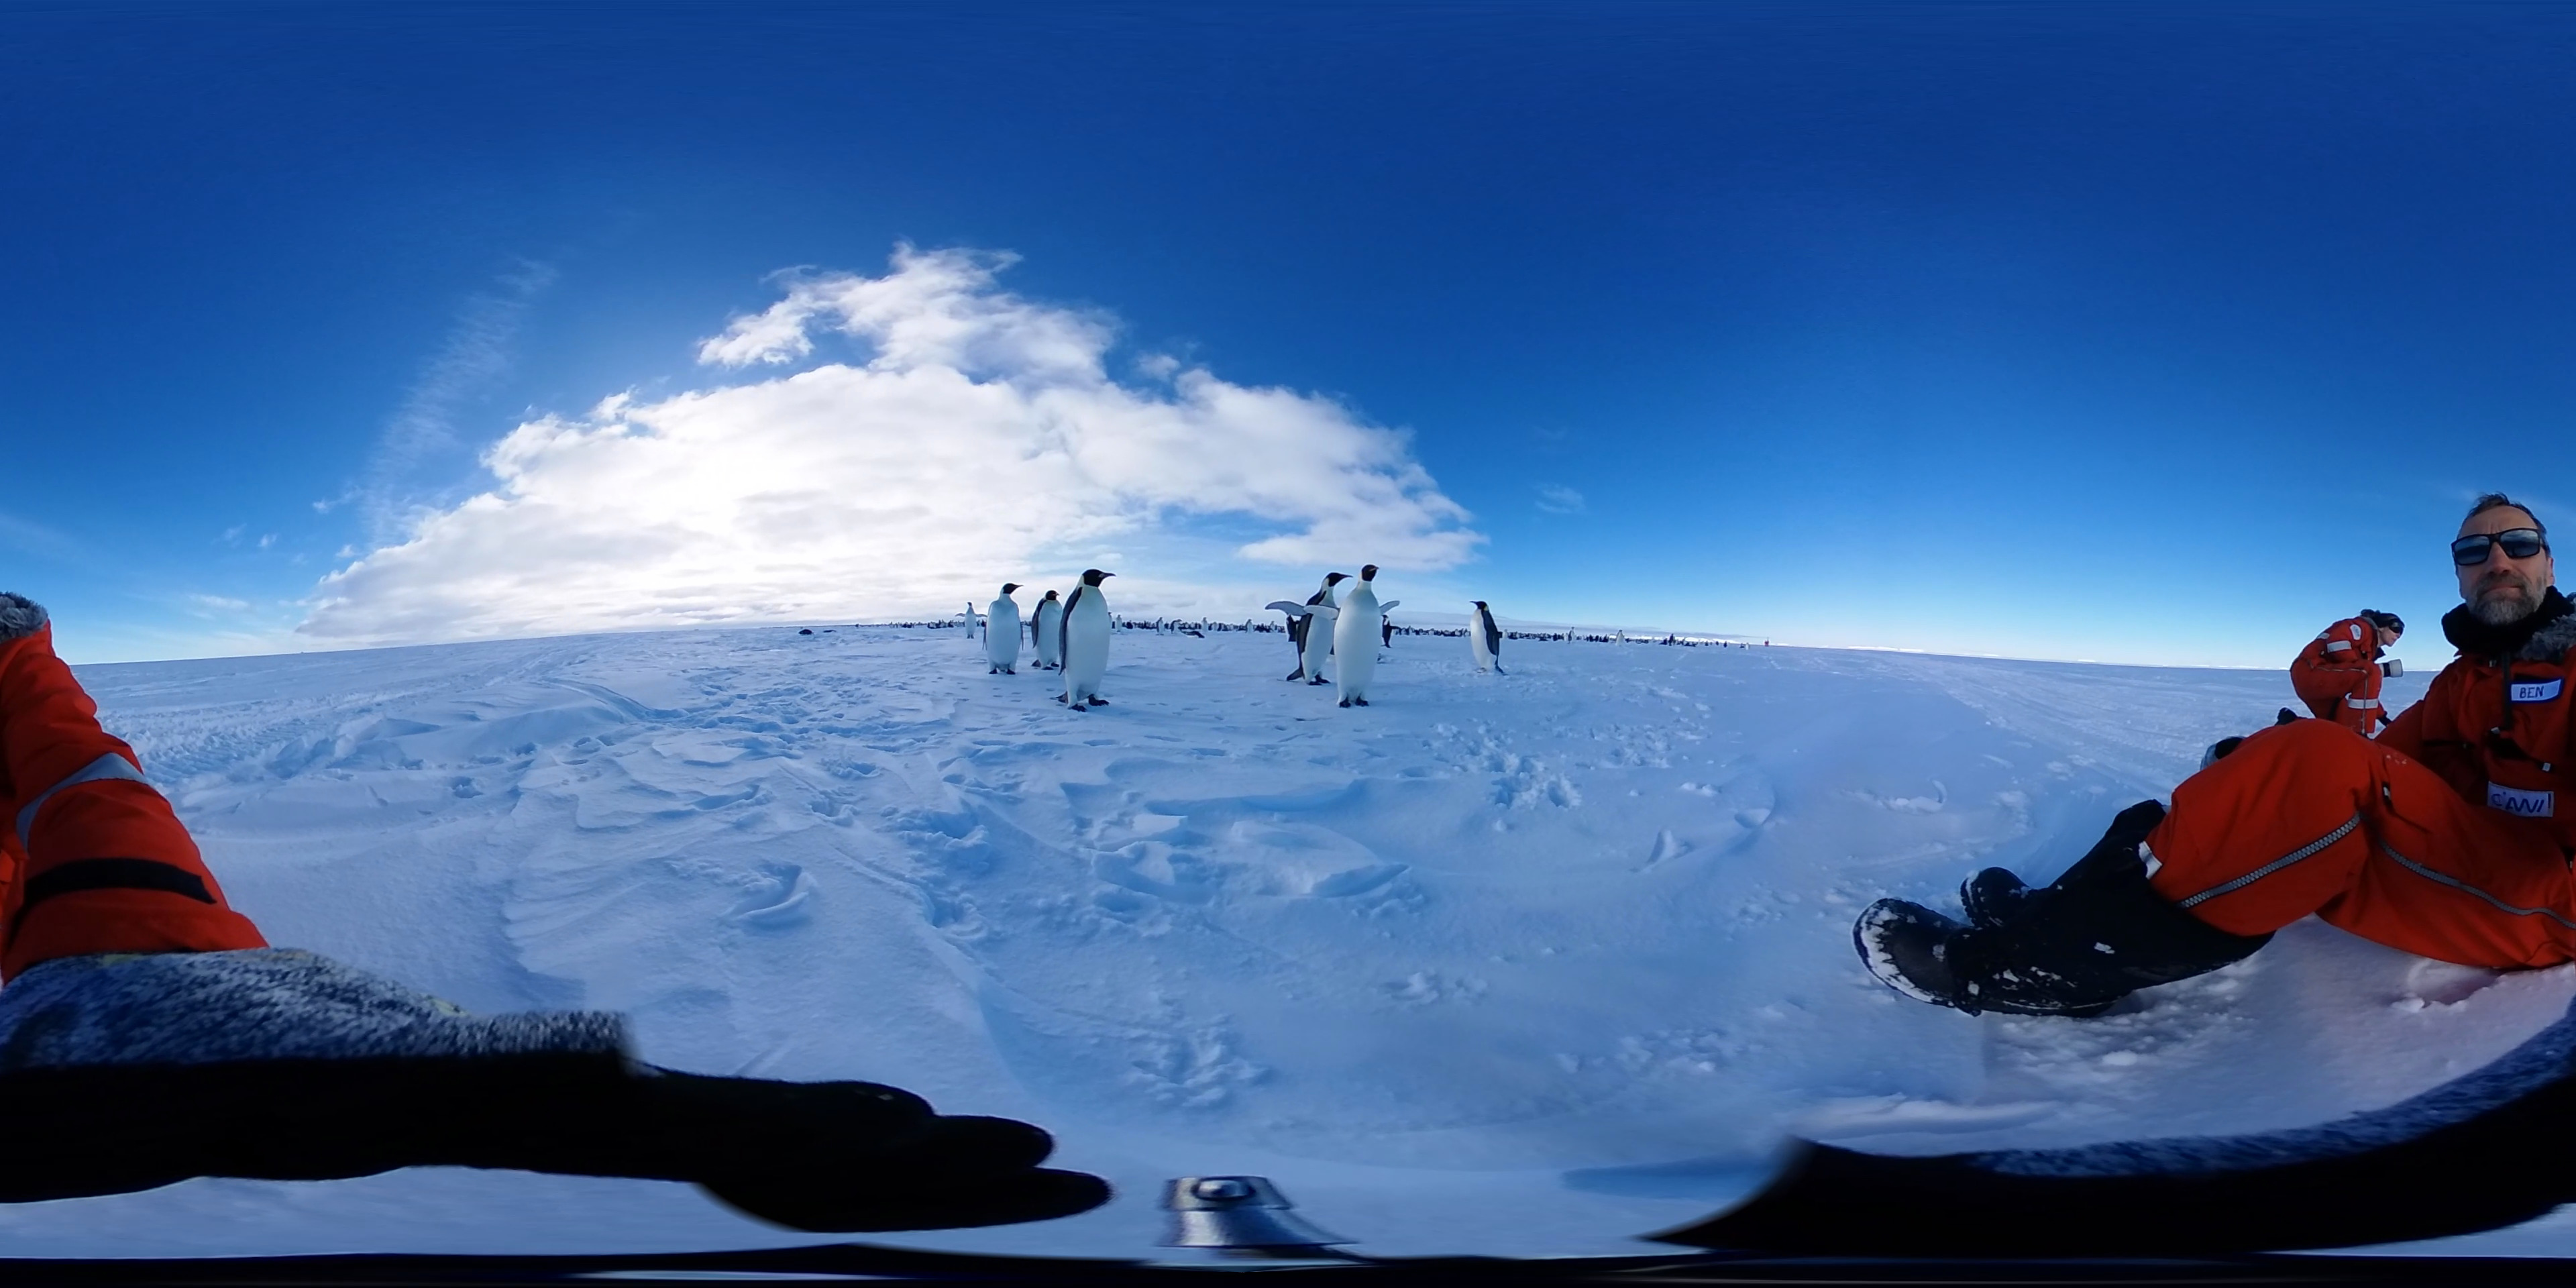adult_standing_penguin: (1308, 563, 1410, 713), (1265, 570, 1354, 693), (1060, 562, 1124, 715), (1460, 595, 1515, 675), (982, 580, 1022, 680), (1030, 590, 1068, 674), (953, 600, 992, 637)
adult_toboggan_penguin: (797, 624, 815, 636)
researcher: (1845, 485, 2576, 1025), (0, 580, 301, 1203), (2284, 605, 2412, 751)
